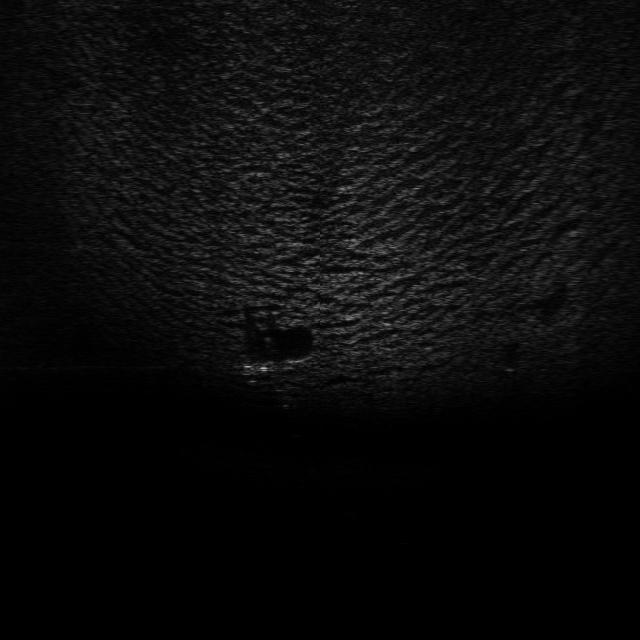plane: (239, 351, 312, 379)
